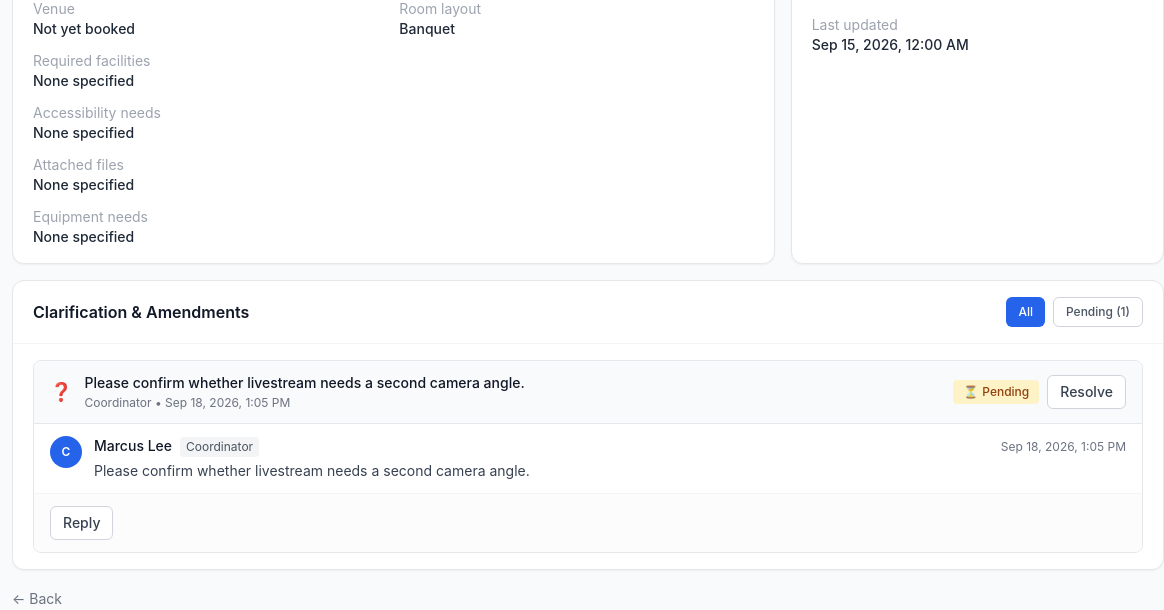
EventDetailPage clarification thread › REQ-CLAR-02-B: Event Coordinator can see a clear indicator when a clarification request is awaiting Organiser's reply
(page scrolled)
Check: the text "Pending" is shown, box [982,384,1029,399]
Click the button "Reply": [82, 523] box [50,506,113,540]
(page scrolled)
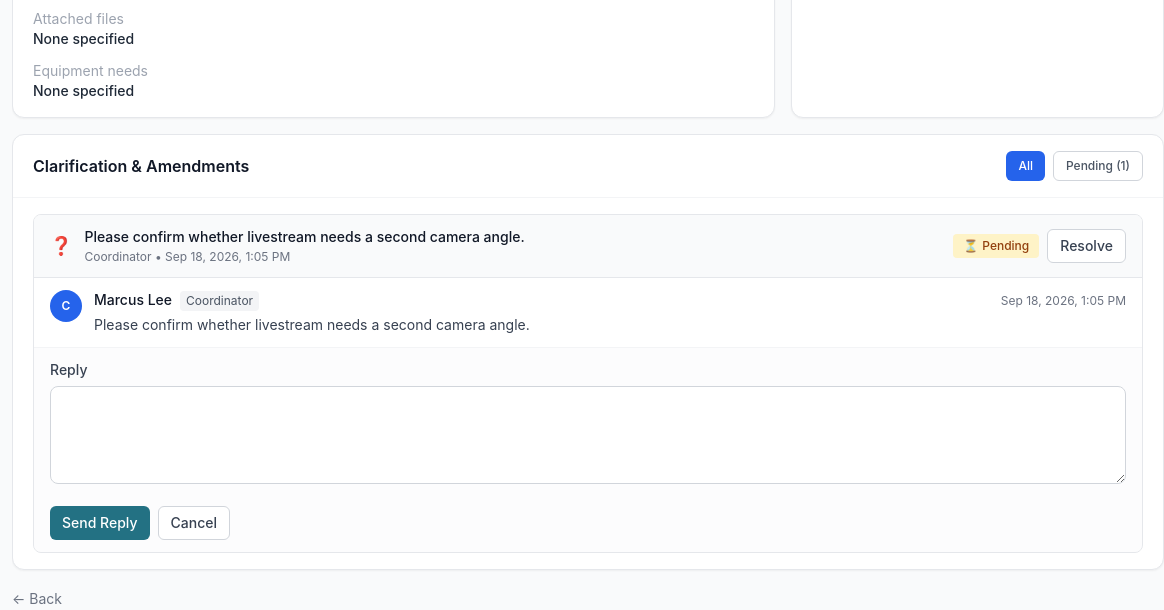
In the text box labelled "Reply": [588, 435] box [50,386,1126,484], type "Yes, please add a second angle on the main stage."
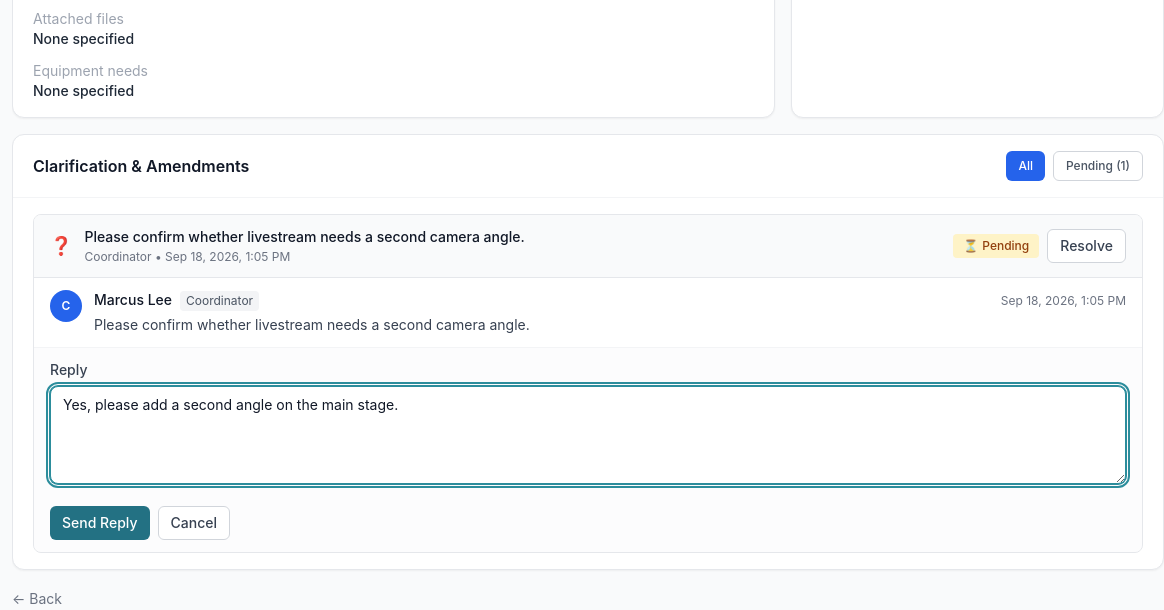
Click the button "Send Reply": [100, 523] box [50,506,150,540]
(page scrolled)
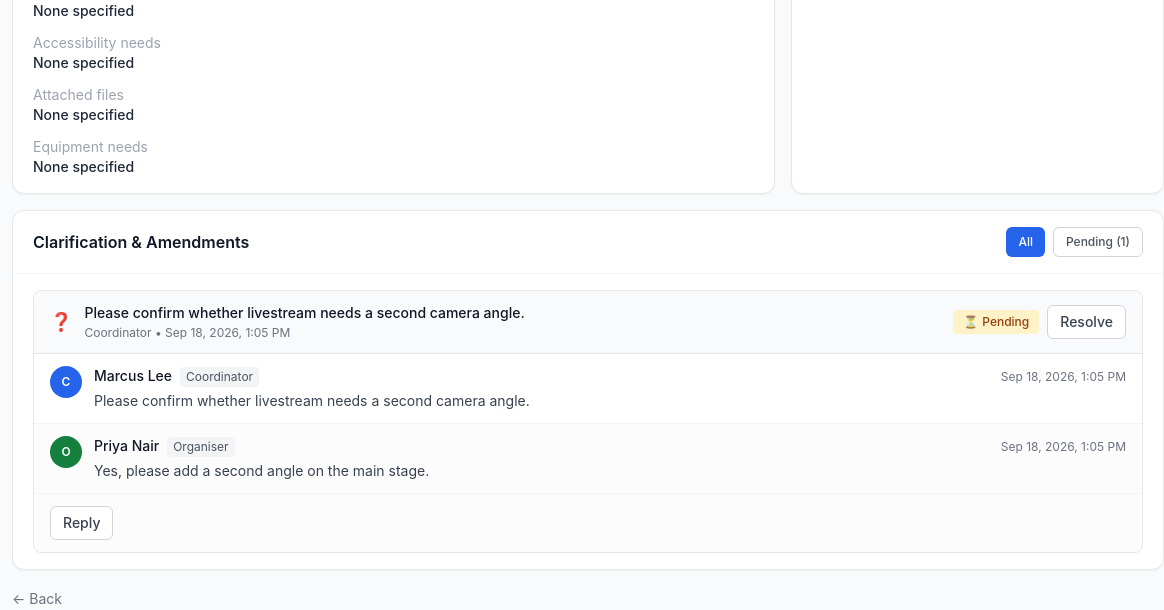
Check: the text "Pending" is shown, box [982,314,1029,329]
Check: the text "Yes, please add a second angle on the main stage." is shown, box [94,462,429,479]
